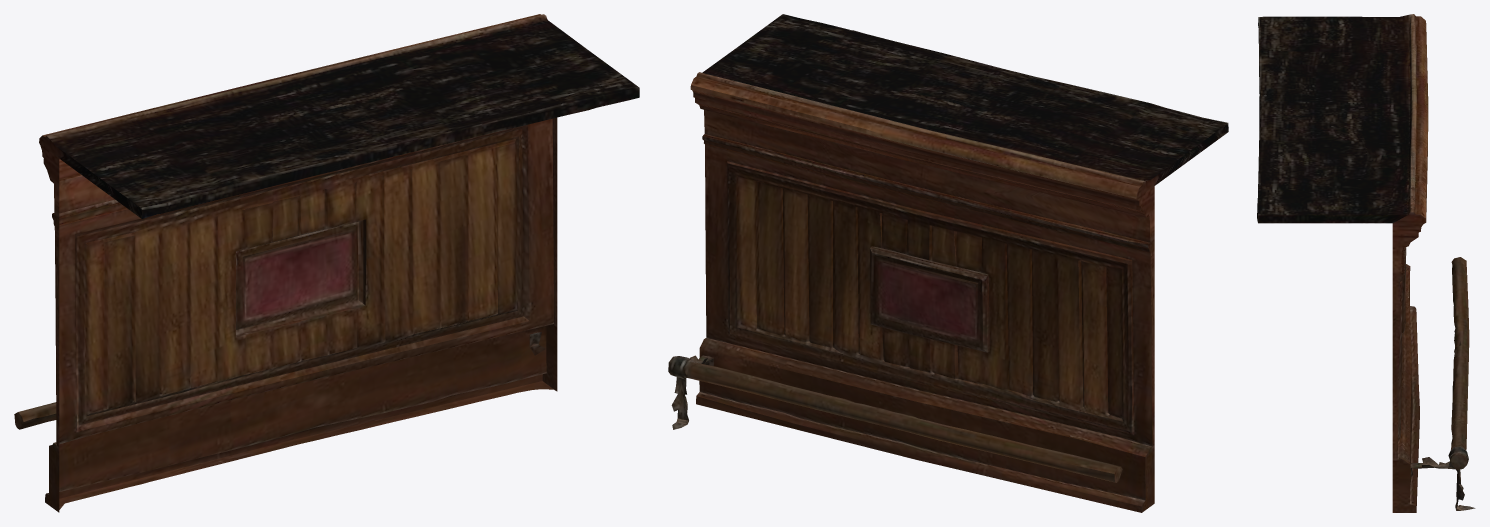
Rendered from bar-counter.lod1.glb.
The picture shows the model from 3 angles, left to right: view 1: azimuth 30°, elevation 25°; view 2: azimuth 150°, elevation 25°; view 3: azimuth 270°, elevation 25°; orthographic projection. The views are drawn at different scales.
Parts seen in each view (by area): view 1: bar-counter; view 2: bar-counter; view 3: bar-counter.
Part boxes in pixels (<box>): bar-counter: <box>14,14,639,512</box>; bar-counter: <box>668,14,1228,512</box>; bar-counter: <box>1257,14,1475,512</box>.
Size of the model in its own units: 1.5 by 1.06 by 0.6995.
Materials: 1 (1 with a texture image).
